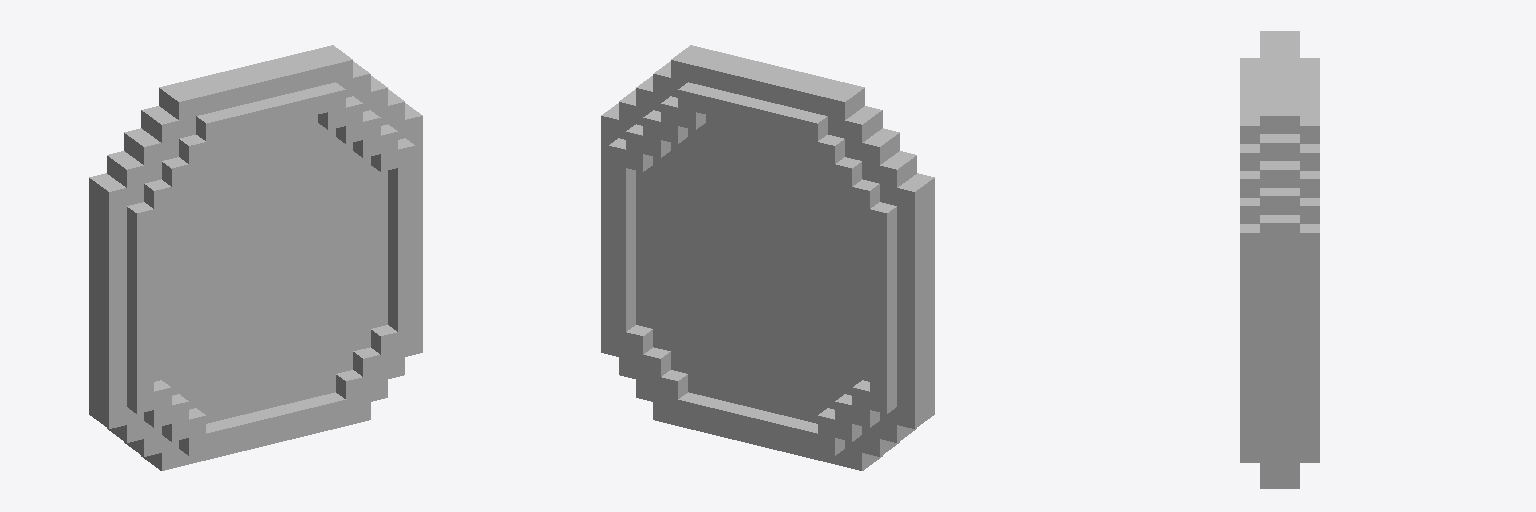
File: coin.obj
The picture shows the model from 3 angles: view 1: azimuth 30°, elevation 25°; view 2: azimuth 150°, elevation 25°; view 3: azimuth 270°, elevation 25°; orthographic projection.
Parts seen in each view (by area): view 1: object 1; view 2: object 1; view 3: object 1.
Boxes of the visible parts, x1=… form: object 1: x1=89, y1=45, x2=422, y2=470; object 1: x1=601, y1=45, x2=934, y2=470; object 1: x1=1240, y1=31, x2=1319, y2=488.
Size of the model in its own units: 1.8 by 2 by 0.4.